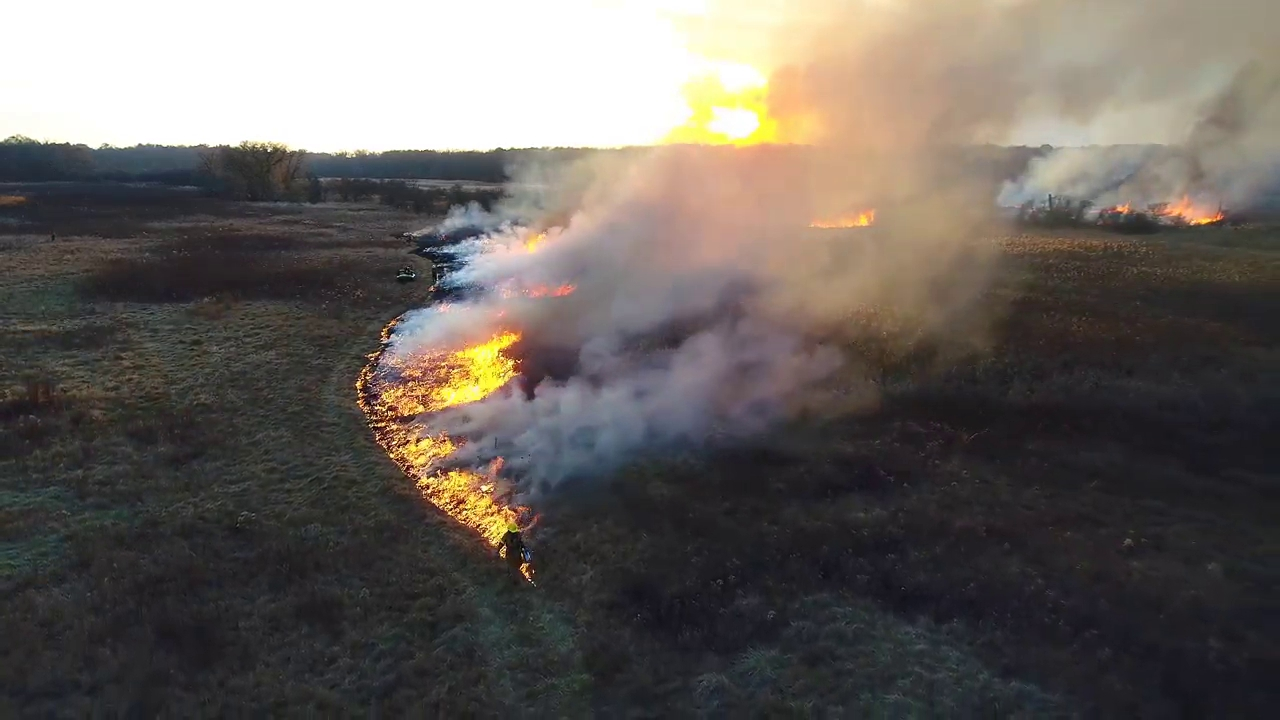forest_fire: (357, 317, 533, 557), (1145, 198, 1225, 225), (810, 210, 875, 229), (512, 284, 573, 296)
